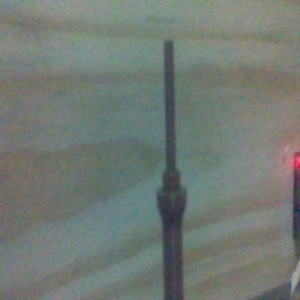obeng: (155, 39, 188, 300)
